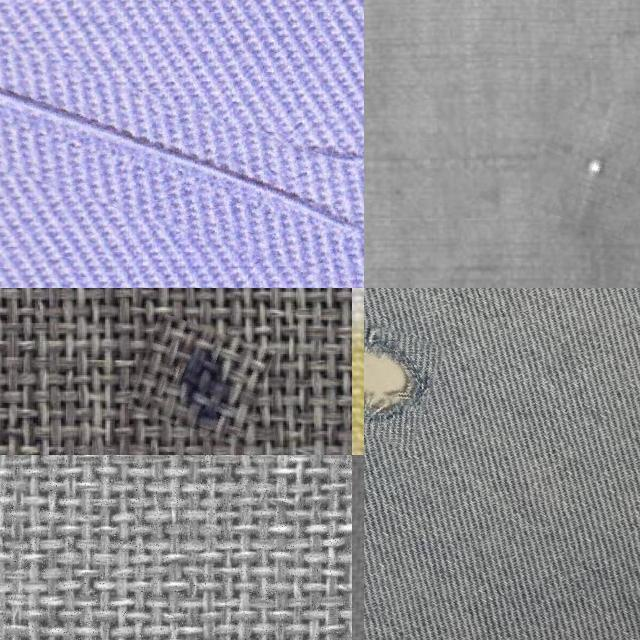Hole: (134, 320, 269, 440)
Thread_other: (0, 61, 364, 257)
seam: (530, 90, 640, 231), (364, 313, 440, 441)
